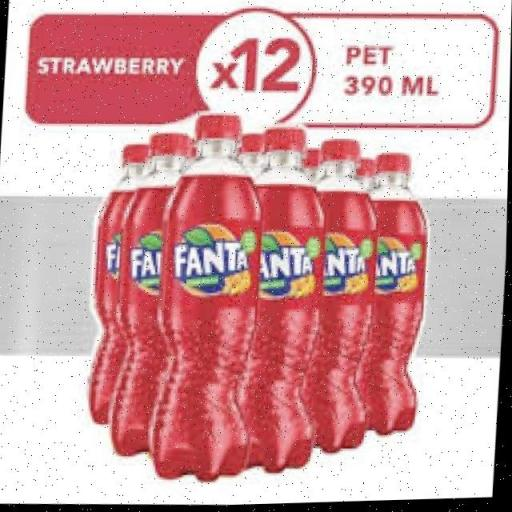plastic: (158, 103, 278, 480), (129, 120, 231, 466), (234, 127, 331, 478), (296, 139, 386, 454), (92, 138, 182, 434), (356, 149, 440, 440)
